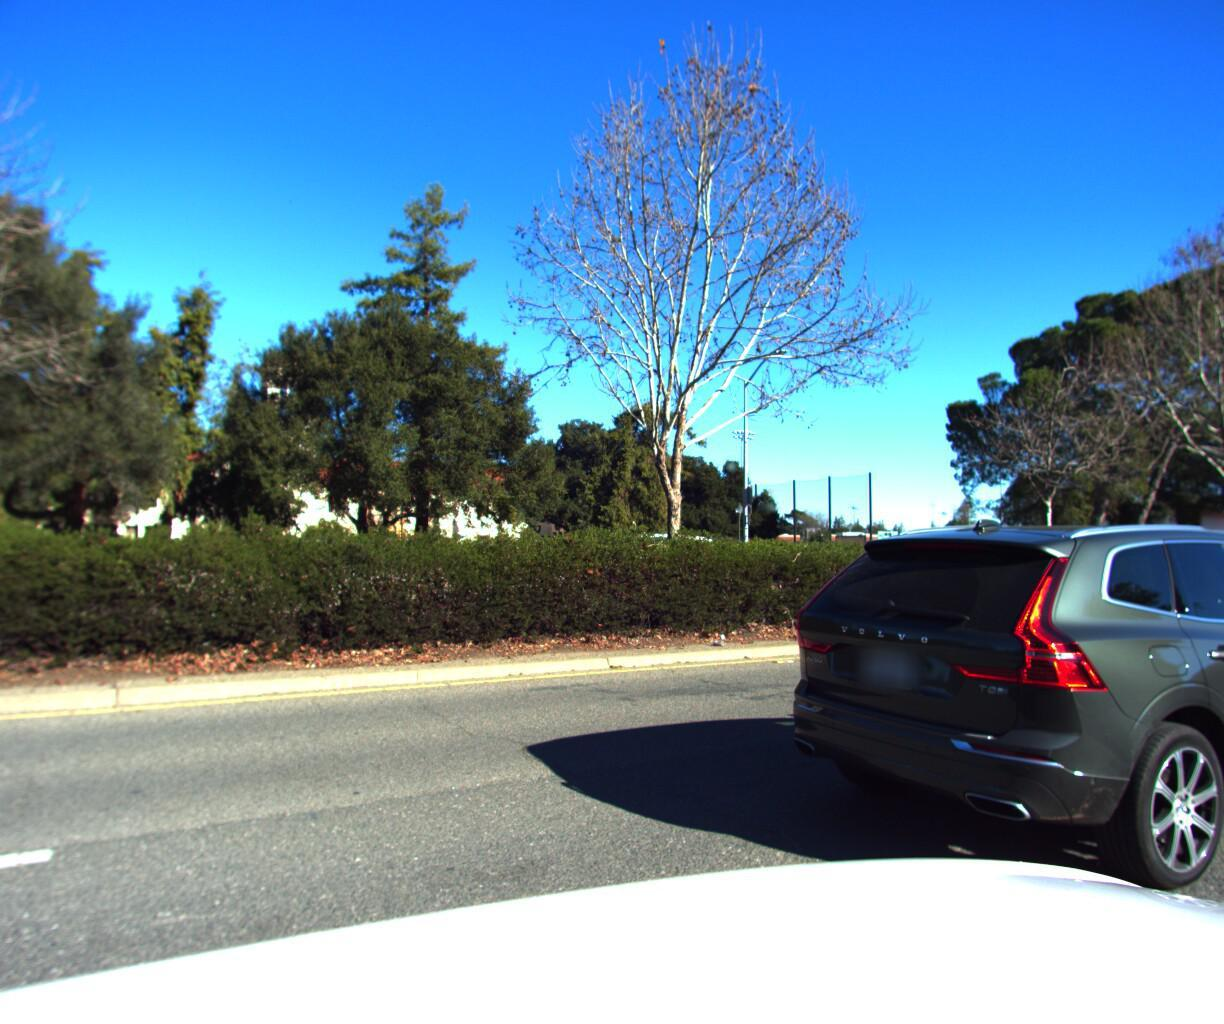car: (754, 504, 1224, 960)
